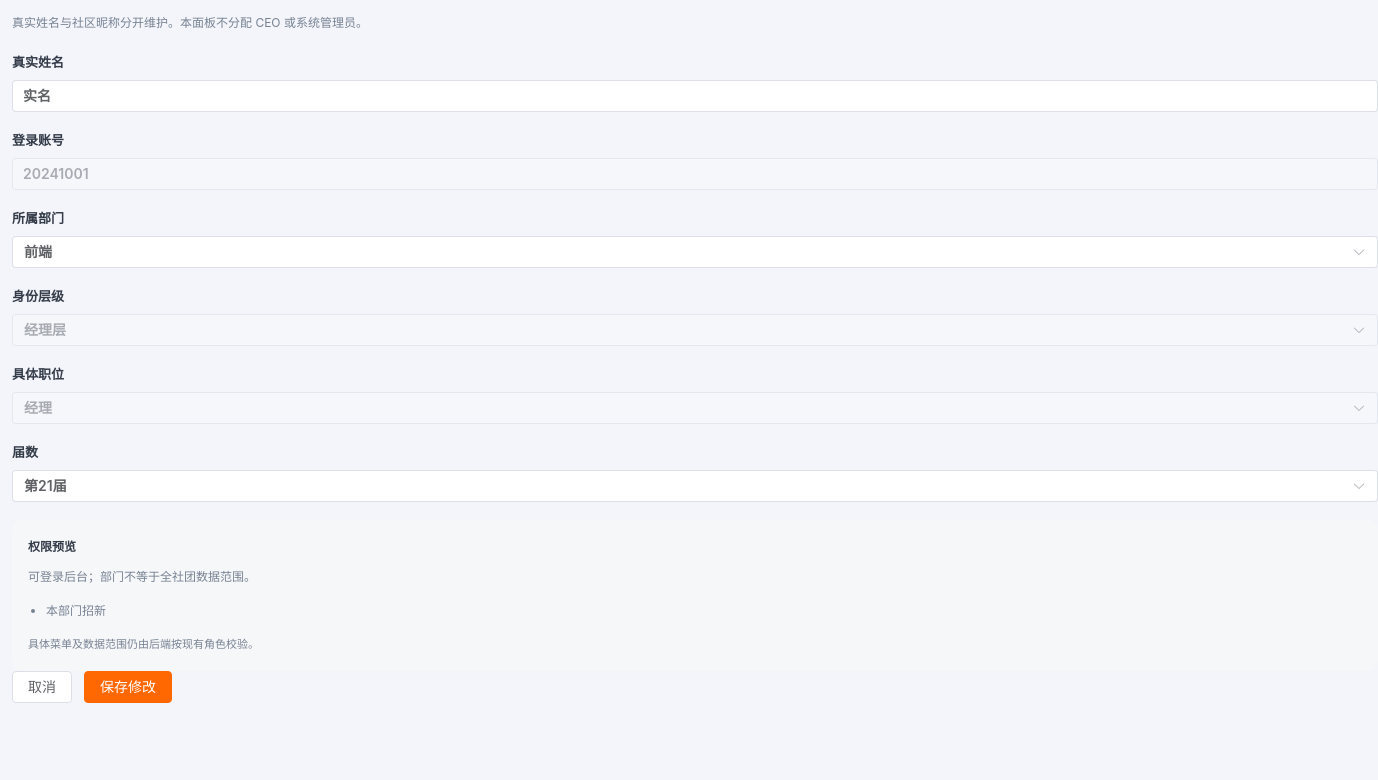
CEO member maintenance › confirms before saving and retains input on backend failure
Replace the text in the field named "真实姓名" with "修改后的实名": (695, 96) [23,81,1367,111]
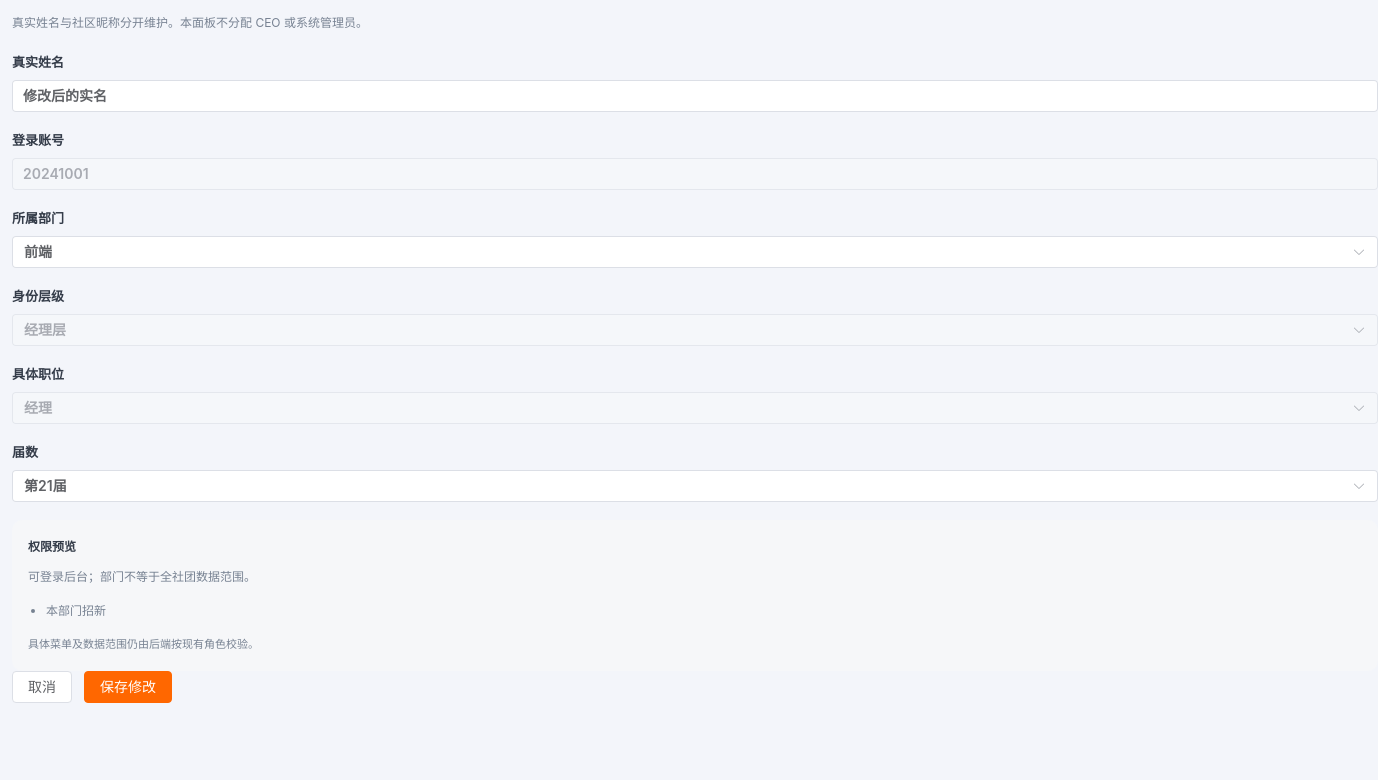
Submit the form
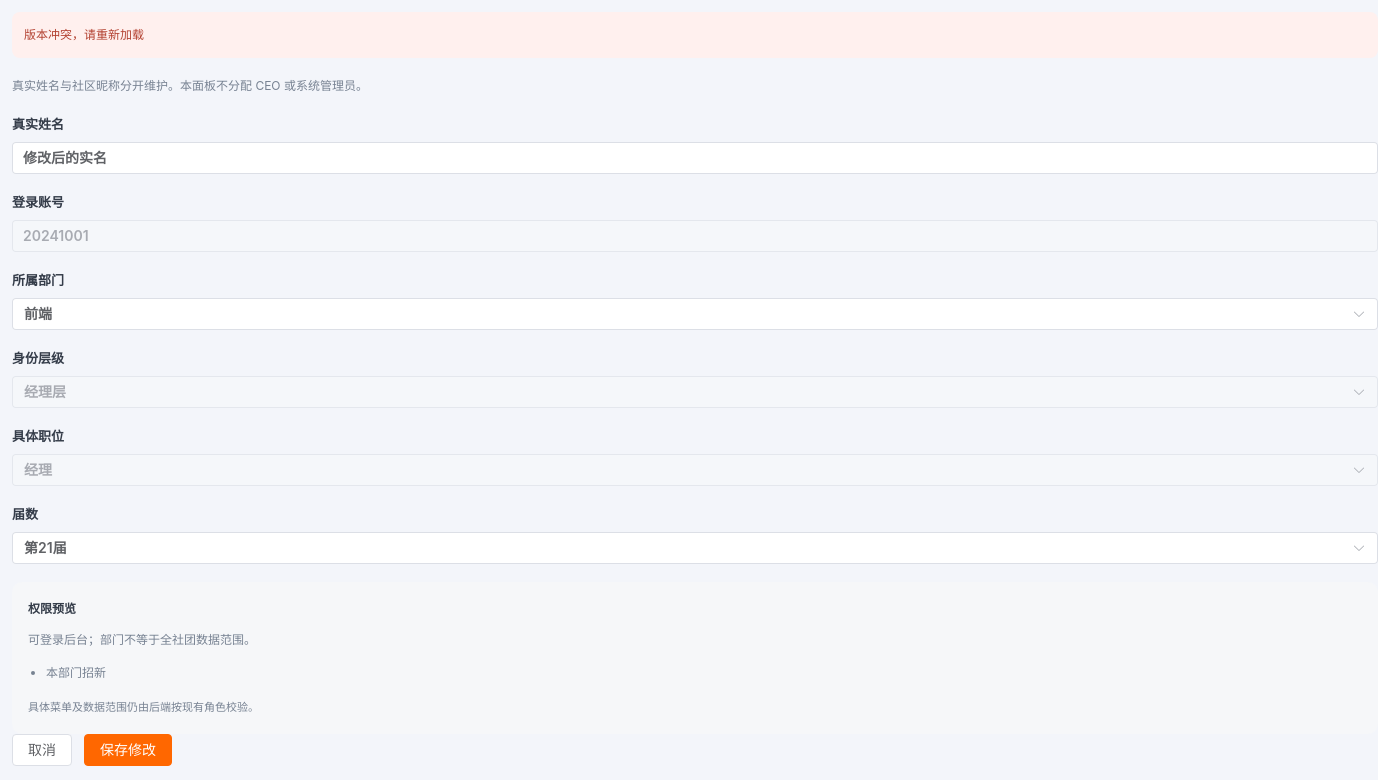
expect the text "版本冲突" is shown: met, box [24,27,144,42]
